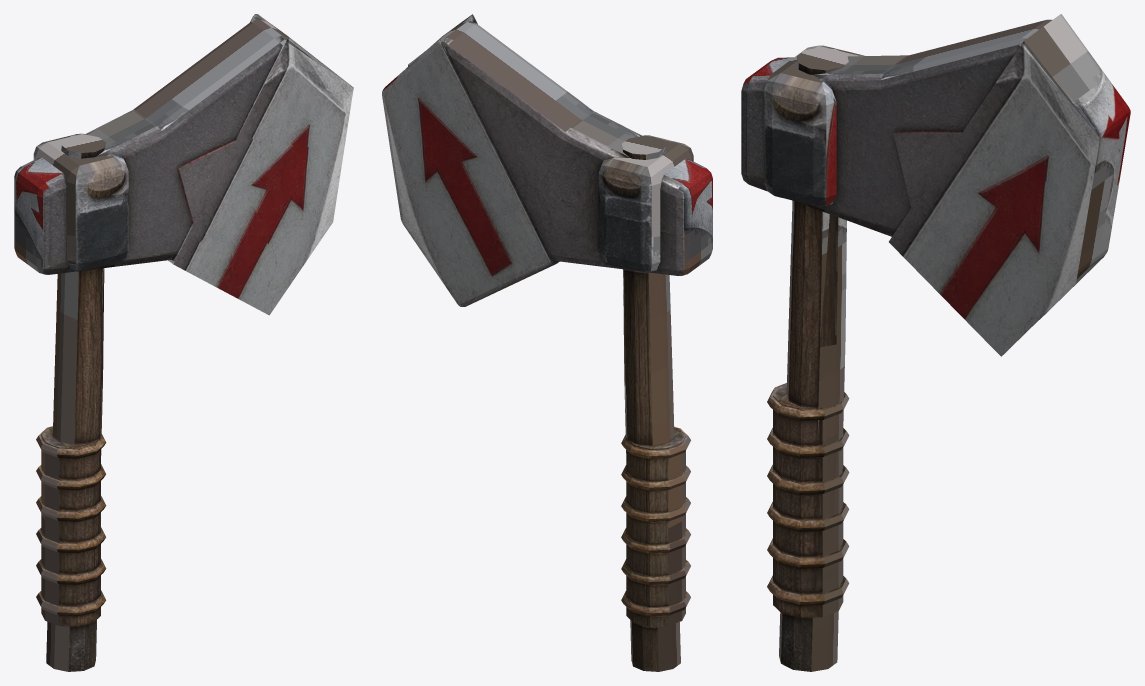
The model's file is evil_axe.glb.
The picture shows the model from 3 angles, left to right: view 1: azimuth 30°, elevation 25°; view 2: azimuth 150°, elevation 25°; view 3: azimuth 330°, elevation 25°; orthographic projection. The views are drawn at different scales.
Visible parts, largest first — view 1: Forged crescent axe blade.002, Sharpened axe cutting edge.002, Axe ash handle.002, Crimson axe blade motif.001, Leather axe grip.002, Iron axe socket.002, Grip wrapping.017, Grip wrapping.015, Grip wrapping.012, Grip wrapping.013, Grip wrapping.014, Grip wrapping.016; view 2: Forged crescent axe blade.002, Sharpened axe cutting edge.002, Axe ash handle.002, Leather axe grip.002, Iron axe socket.002, Grip wrapping.017, Grip wrapping.013, Grip wrapping.014, Grip wrapping.016, Grip wrapping.015, Grip wrapping.012; view 3: Sharpened axe cutting edge.002, Forged crescent axe blade.002, Axe ash handle.002, Crimson axe blade motif.001, Leather axe grip.002, Iron axe socket.002, Grip wrapping.013, Grip wrapping.012, Grip wrapping.014, Grip wrapping.015, Grip wrapping.017, Grip wrapping.016.
Part boxes in pixels (x1=…): Forged crescent axe blade.002: x1=14, y1=19, x2=287, y2=274; Sharpened axe cutting edge.002: x1=168, y1=14, x2=353, y2=315; Axe ash handle.002: x1=46, y1=134, x2=105, y2=671; Crimson axe blade motif.001: x1=179, y1=137, x2=324, y2=261; Leather axe grip.002: x1=41, y1=426, x2=100, y2=626; Iron axe socket.002: x1=33, y1=133, x2=128, y2=270; Grip wrapping.017: x1=36, y1=427, x2=106, y2=458; Grip wrapping.015: x1=36, y1=496, x2=106, y2=521; Grip wrapping.012: x1=36, y1=590, x2=105, y2=616; Grip wrapping.013: x1=36, y1=559, x2=106, y2=584; Grip wrapping.014: x1=36, y1=527, x2=105, y2=553; Grip wrapping.016: x1=36, y1=464, x2=105, y2=490; Forged crescent axe blade.002: x1=440, y1=21, x2=712, y2=275; Sharpened axe cutting edge.002: x1=382, y1=14, x2=559, y2=306; Axe ash handle.002: x1=621, y1=136, x2=680, y2=671; Leather axe grip.002: x1=626, y1=427, x2=685, y2=626; Iron axe socket.002: x1=598, y1=135, x2=693, y2=271; Grip wrapping.017: x1=621, y1=428, x2=690, y2=459; Grip wrapping.013: x1=621, y1=559, x2=690, y2=584; Grip wrapping.014: x1=621, y1=528, x2=690, y2=553; Grip wrapping.016: x1=621, y1=465, x2=690, y2=490; Grip wrapping.015: x1=621, y1=496, x2=690, y2=521; Grip wrapping.012: x1=621, y1=591, x2=690, y2=616; Sharpened axe cutting edge.002: x1=889, y1=14, x2=1130, y2=356; Forged crescent axe blade.002: x1=741, y1=19, x2=1112, y2=264; Axe ash handle.002: x1=779, y1=47, x2=848, y2=671; Crimson axe blade motif.001: x1=893, y1=133, x2=1063, y2=295; Leather axe grip.002: x1=773, y1=383, x2=843, y2=617; Iron axe socket.002: x1=764, y1=45, x2=864, y2=206; Grip wrapping.013: x1=767, y1=538, x2=849, y2=568; Grip wrapping.012: x1=767, y1=575, x2=849, y2=605; Grip wrapping.014: x1=767, y1=502, x2=849, y2=531; Grip wrapping.015: x1=767, y1=465, x2=849, y2=494; Grip wrapping.017: x1=767, y1=383, x2=849, y2=420; Grip wrapping.016: x1=767, y1=428, x2=849, y2=457.
Size of the model in its own units: 0.6196 by 1.12 by 0.16.
4 materials, 4 textured.
